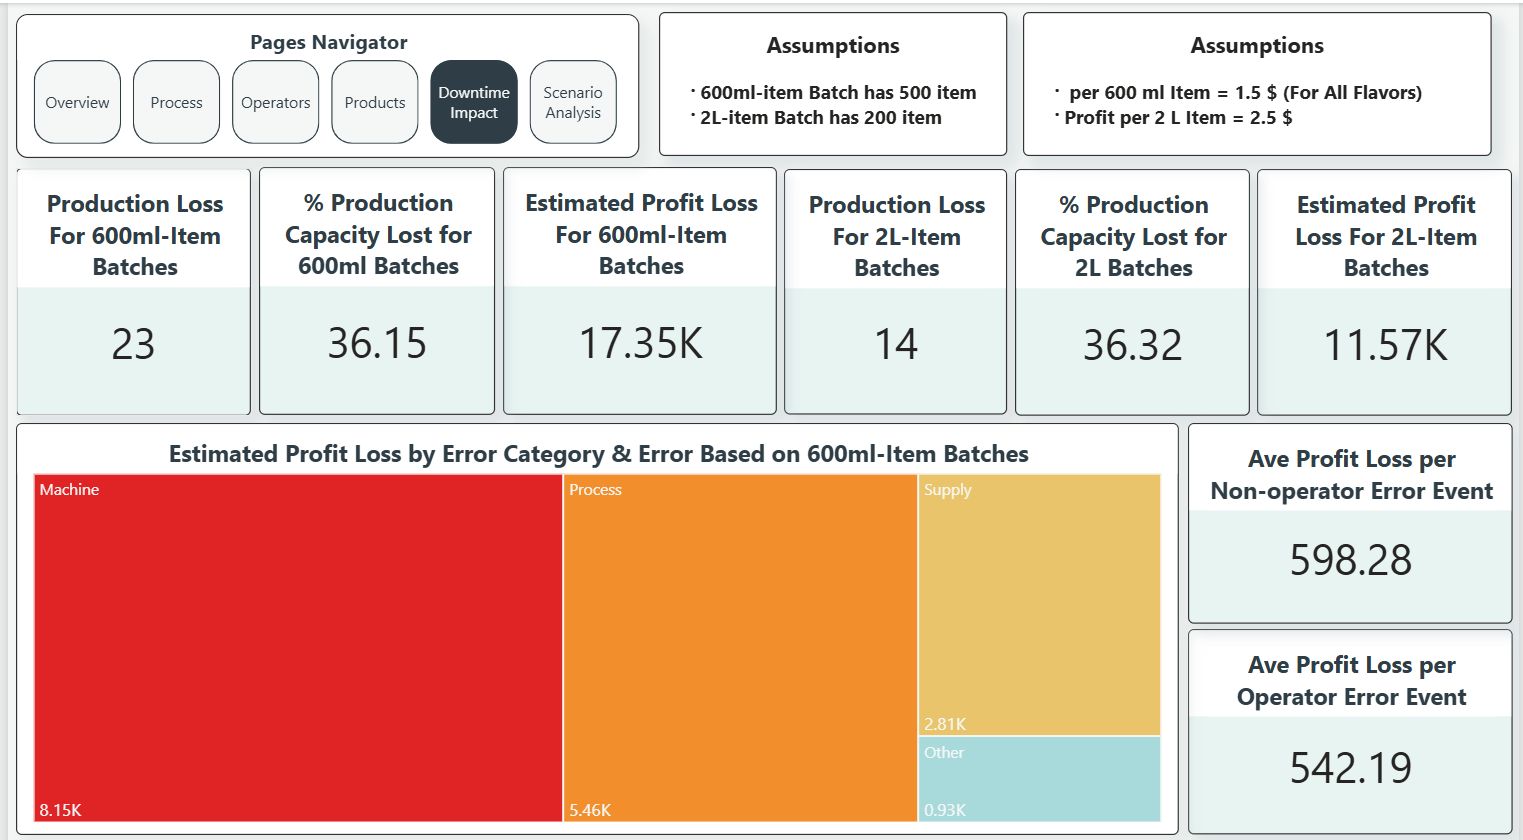

Layout of this report page (visuals, bound fields, positions):
{"tool":"powerbi","page":{"name":"Downtime Impact","canvas":[1280,720],"ordinal":4},"visuals":[{"type":"textbox","box":[551.2,9.5,295,121.6],"z":0},{"type":"card","title":"Production Loss For 600ml-Item Batches ","fields":{"Values":["Products.Production Loss For 600 ml Item Batches"]},"box":[7,139.9,199.2,209.6],"z":1000},{"type":"card","title":"Production Loss For 2L-Item Batches","fields":{"Values":["Products.Production Loss For 2 L Item Batches"]},"box":[657.6,140.7,188.9,207.9],"z":2000},{"type":"card","title":"Estimated Profit Loss For 600ml-Item Batches","fields":{"Values":["#Losess Measures.Estimated Revenue Loss For 600 ml"]},"box":[419.2,139,232,209.6],"z":3000},{"type":"card","title":"Estimated Profit Loss For 2L-Item Batches","fields":{"Values":["#Losess Measures.Estimated Revenue Loss For 2 L"]},"box":[1058.3,140.7,216.5,208.7],"z":4000},{"type":"card","title":"% Production Capacity Lost for 600ml Batches","fields":{"Values":["#Losess Measures.% Production Capacity Lost for 600 ml"]},"box":[212.7,139,200.1,209.6],"z":5000},{"type":"card","title":"% Production Capacity Lost for 2L Batches","fields":{"Values":["#Losess Measures.% Production Capacity Lost for 2 L"]},"box":[853,140.7,199.2,208.7],"z":6000},{"type":"card","title":"Ave Profit Loss per Operator Error Event","fields":{"Values":["#Losess Measures.Ave Loss per Events"]},"box":[999.7,530.5,275.1,174.2],"z":7000},{"type":"treemap","title":"Estimated Profit Loss  by Error Category & Error Based on 600ml-Item Batches","fields":{"Group":["Downtime factors.Cause Category","Downtime factors.Description"],"Values":["#Losess Measures.Estimated Revenue Loss For 600 ml"]},"box":[6.9,355.5,985,349.3],"z":8000},{"type":"textbox","box":[859.9,9.5,414.9,121.6],"z":9000},{"type":"pageNavigator","title":"Pages Navigator","box":[6.9,9.5,527.9,121.6],"z":10000},{"type":"card","title":"Ave Profit Loss per Non-operator Error Event","fields":{"Values":["#Losess Measures.Ave Loss per Non-Operator Event"]},"box":[999.7,355.5,275.1,170],"z":11000}]}

Visuals, with their boxes in screenshot pixels (x1, y1, x2, y2), scaled from the page's 1280x720 canvas onto the 1523x840 screenshot:
textbox: (656, 11, 1007, 153)
"Production Loss For 600ml-Item Batches " card: (8, 163, 245, 408)
"Production Loss For 2L-Item Batches" card: (782, 164, 1007, 407)
"Estimated Profit Loss For 600ml-Item Batches" card: (499, 162, 775, 407)
"Estimated Profit Loss For 2L-Item Batches" card: (1259, 164, 1517, 408)
"% Production Capacity Lost for 600ml Batches" card: (253, 162, 491, 407)
"% Production Capacity Lost for 2L Batches" card: (1015, 164, 1252, 408)
"Ave Profit Loss per Operator Error Event" card: (1189, 619, 1517, 822)
"Estimated Profit Loss  by Error Category & Error Based on 600ml-Item Batches" treemap: (8, 415, 1180, 822)
textbox: (1023, 11, 1517, 153)
"Pages Navigator" pageNavigator: (8, 11, 636, 153)
"Ave Profit Loss per Non-operator Error Event" card: (1189, 415, 1517, 613)
